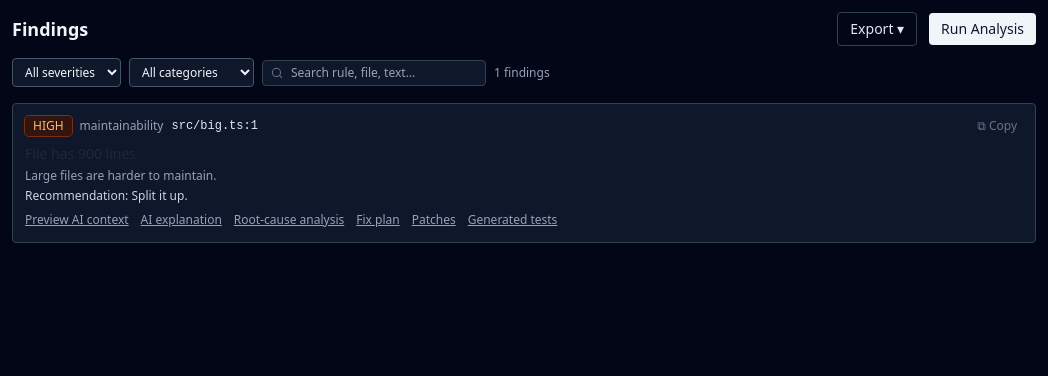
FindingsPage › disables 'Generate explanation' when no AI provider is enabled, with an explanatory message
The image size is (1048, 376).
Check: the text "src/big.ts:1" is shown, box [172,118,258,134]
Click the button "AI explanation": (181,220) [141,212,222,228]
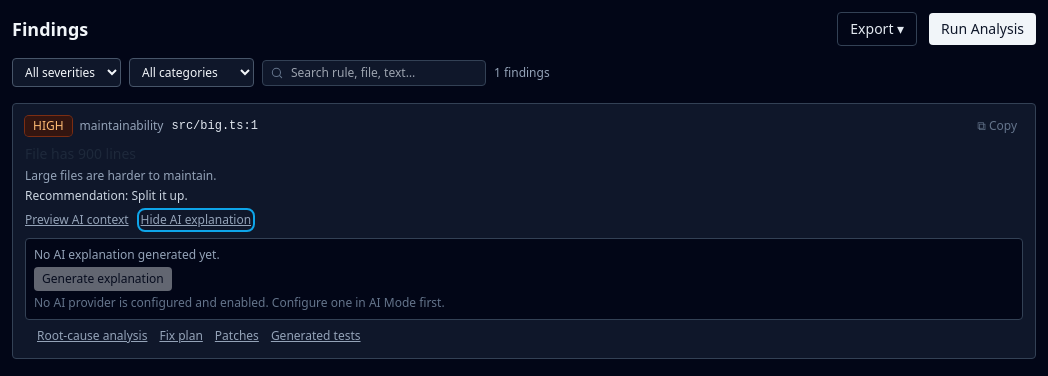
Check: the text "No AI explanation generated yet." is shown, box [34,246,220,263]
Check: the button "Generate explanation" is disabled, box [34,267,172,291]
Check: the text "No AI provider is configured and enabled" is shown, box [34,294,445,311]
